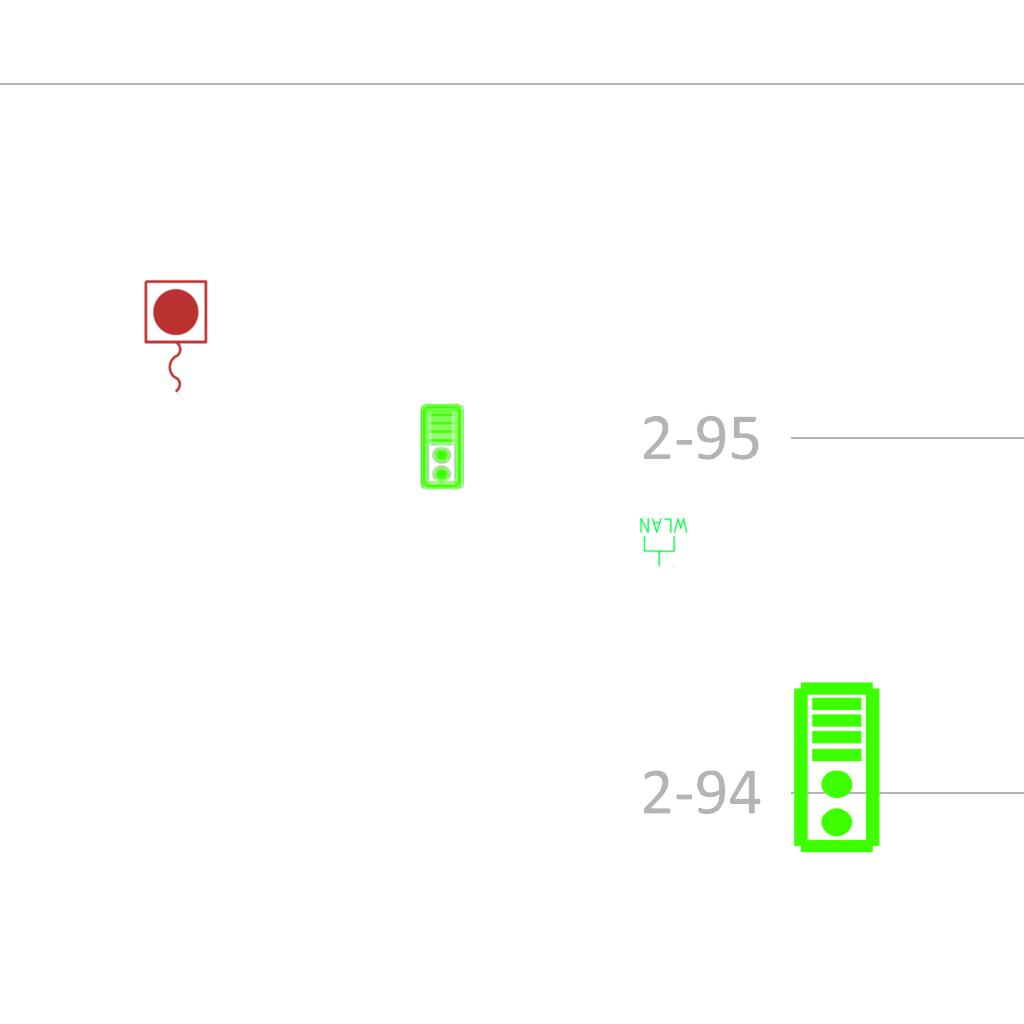Gegensprechanlage_mit_Video: (791, 680, 886, 856), (419, 403, 466, 491)
WLAN: (638, 516, 690, 568)
Zugtaster: (139, 276, 211, 398)
